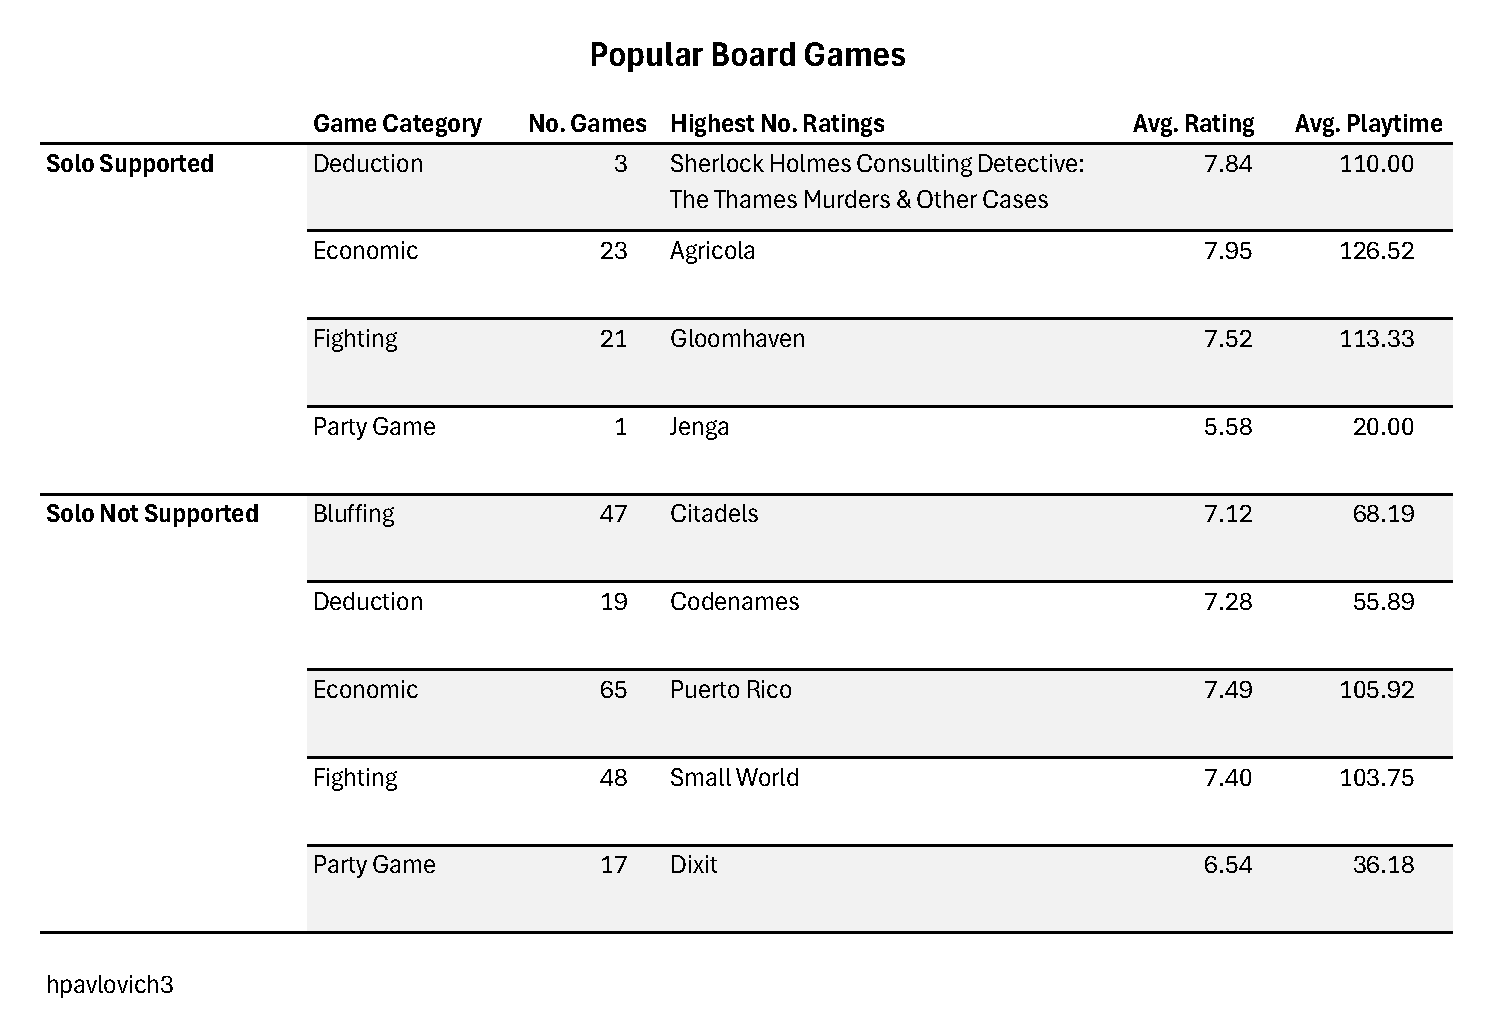

What the dashboard file says about the page in this screenshot:
{"tool":"tableau","page":{"name":"Dashboard 2","canvas":[1000,800],"ordinal":1},"visuals":[{"type":"title","box":[8,8,824,42]},{"type":"legend","title":"Q1.3","param":"[federated.0xkgofh1ii3cqy1dkwjwh1vd7bi1].[none:mechanics:nk]","box":[832,8,160,126]},{"type":"worksheet","title":"Q1.3","mark":"Automatic","rows":["category"],"cols":["category"],"box":[8,50,824,710]},{"type":"filter","title":"Q1.3","param":"[federated.0xkgofh1ii3cqy1dkwjwh1vd7bi1].[none:max_players:nk]","box":[832,134,160,127]},{"type":"text","box":[8,760,824,32]}]}

Visuals, with their boxes on the page's 1000x800 design canvas (x1, y1, x2, y2). These are canvas units, not pixel positions in the 1499x1022 screenshot, which may show the page scaled, cropped or inside an application window:
title: (8, 8, 832, 50)
"Q1.3" legend: (832, 8, 992, 134)
"Q1.3" worksheet: (8, 50, 832, 760)
"Q1.3" filter: (832, 134, 992, 261)
text: (8, 760, 832, 792)
